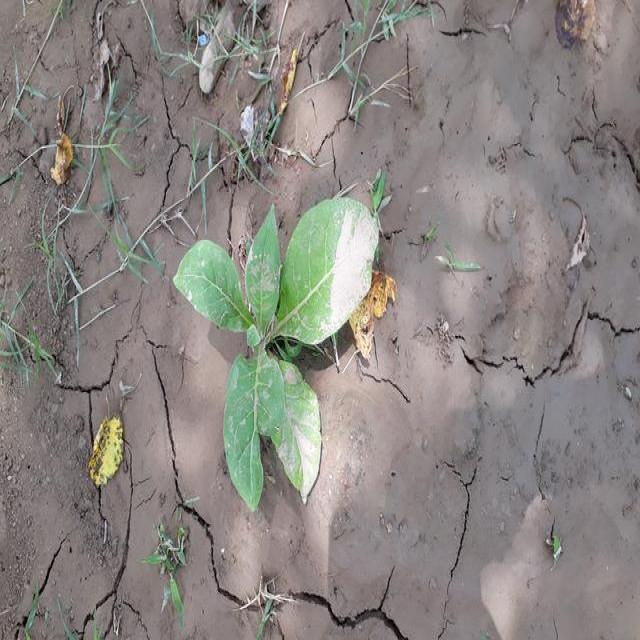crop: (178, 195, 370, 514)
